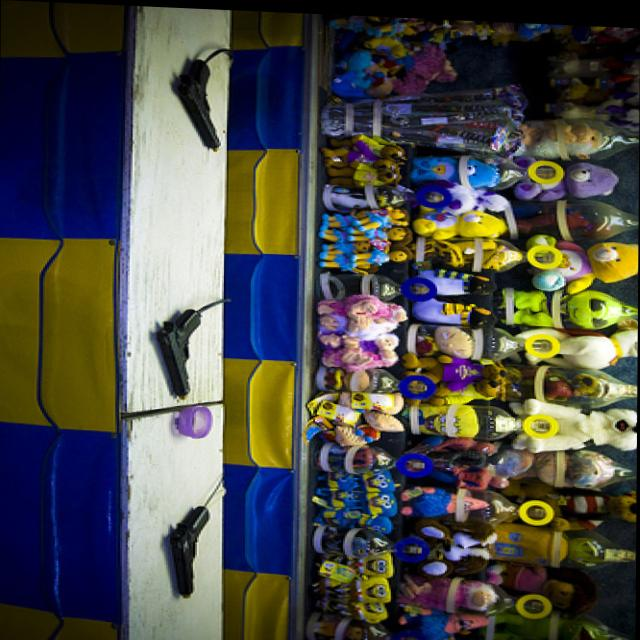handgun: (151, 306, 214, 406), (168, 55, 225, 151), (166, 503, 216, 599)
